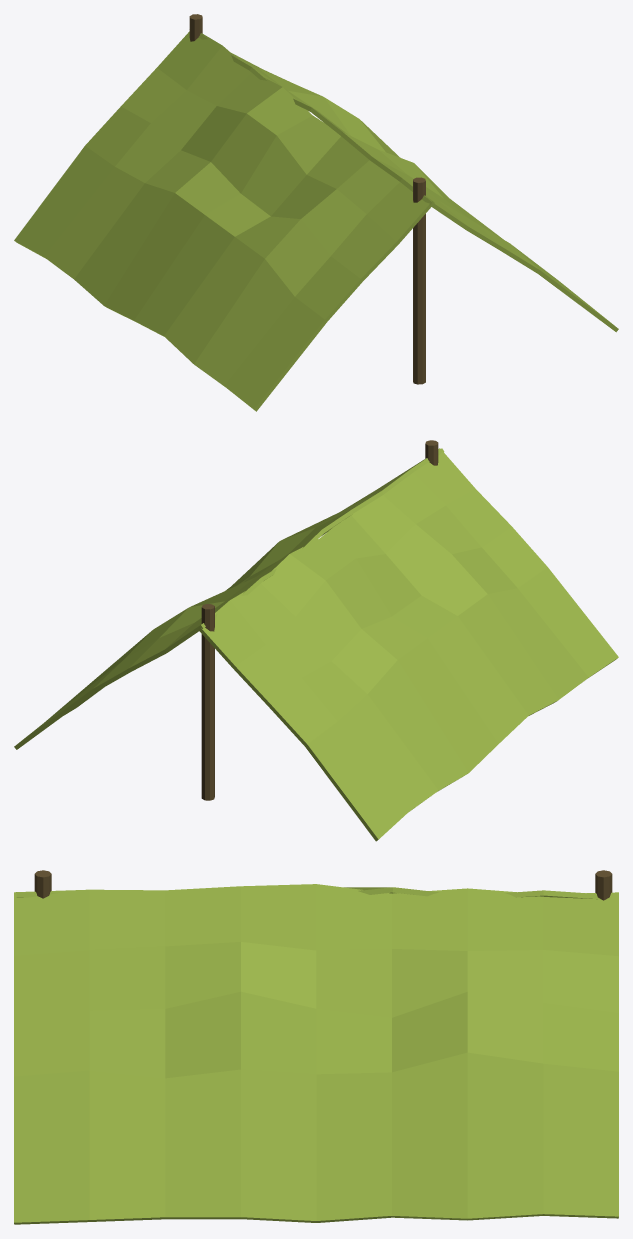
Rendered from tente2.fbx.
3 views of the same model, one above another, from view 1: azimuth 30°, elevation 25°; view 2: azimuth 150°, elevation 25°; view 3: azimuth 270°, elevation 25° (orthographic). The views are drawn at different scales.
Visible parts, largest first — view 1: Plan.004; view 2: Plan.004; view 3: Plan.004.
Part boxes in pixels (<box>): Plan.004: <box>14,14,618,411</box>; Plan.004: <box>14,440,618,841</box>; Plan.004: <box>14,870,618,1224</box>.
Size of the model in its own units: 391 by 207 by 448.
